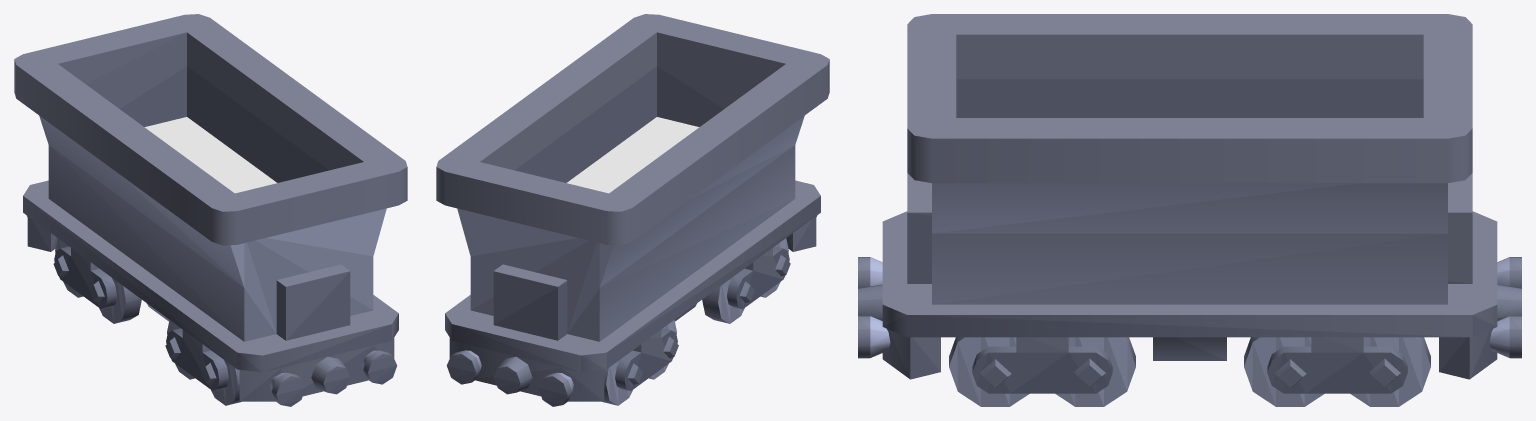
Rendered from train-carriage-box.obj.
3 renders of one model, left to right at view 1: azimuth 30°, elevation 25°; view 2: azimuth 150°, elevation 25°; view 3: azimuth 270°, elevation 25°, orthographic. The views are drawn at different scales.
Size of the model in its own units: 1.2 by 1.3 by 2.7.
